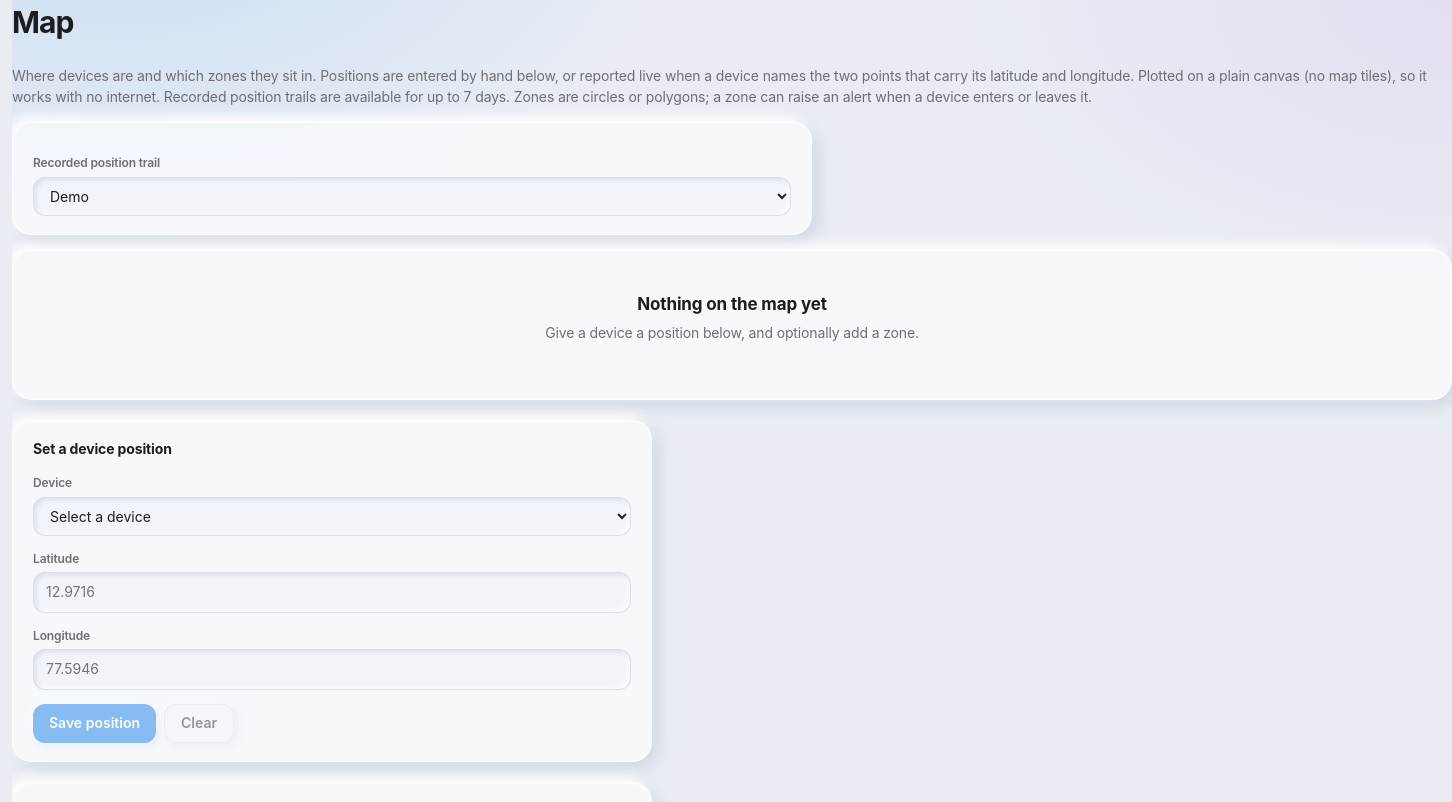
Test: CSV export uses loaded displayed rows and disables on empty/loading/failure
The width and height of the screenshot is (1452, 802).
Later steps or results of the test are not shown.
Select "Demo" in the dropdown with id "mt-device" at (412, 196), box [33,177,791,216]
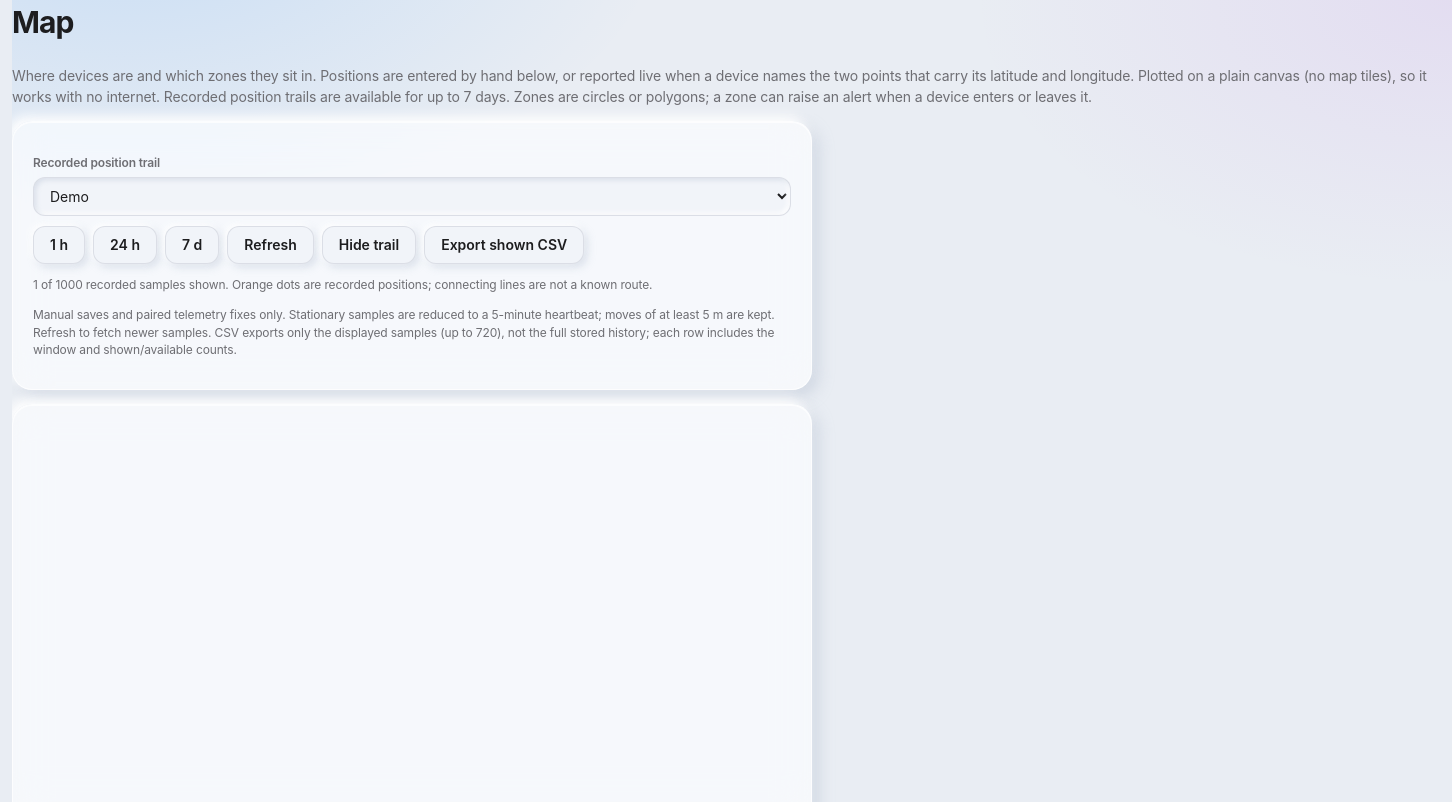
Now the button "Export shown CSV" is enabled
Click the button "Export shown CSV".
click(504, 245)  # box [424,226,584,264]
Click the button "Refresh".
click(271, 245)  # box [227,226,314,264]
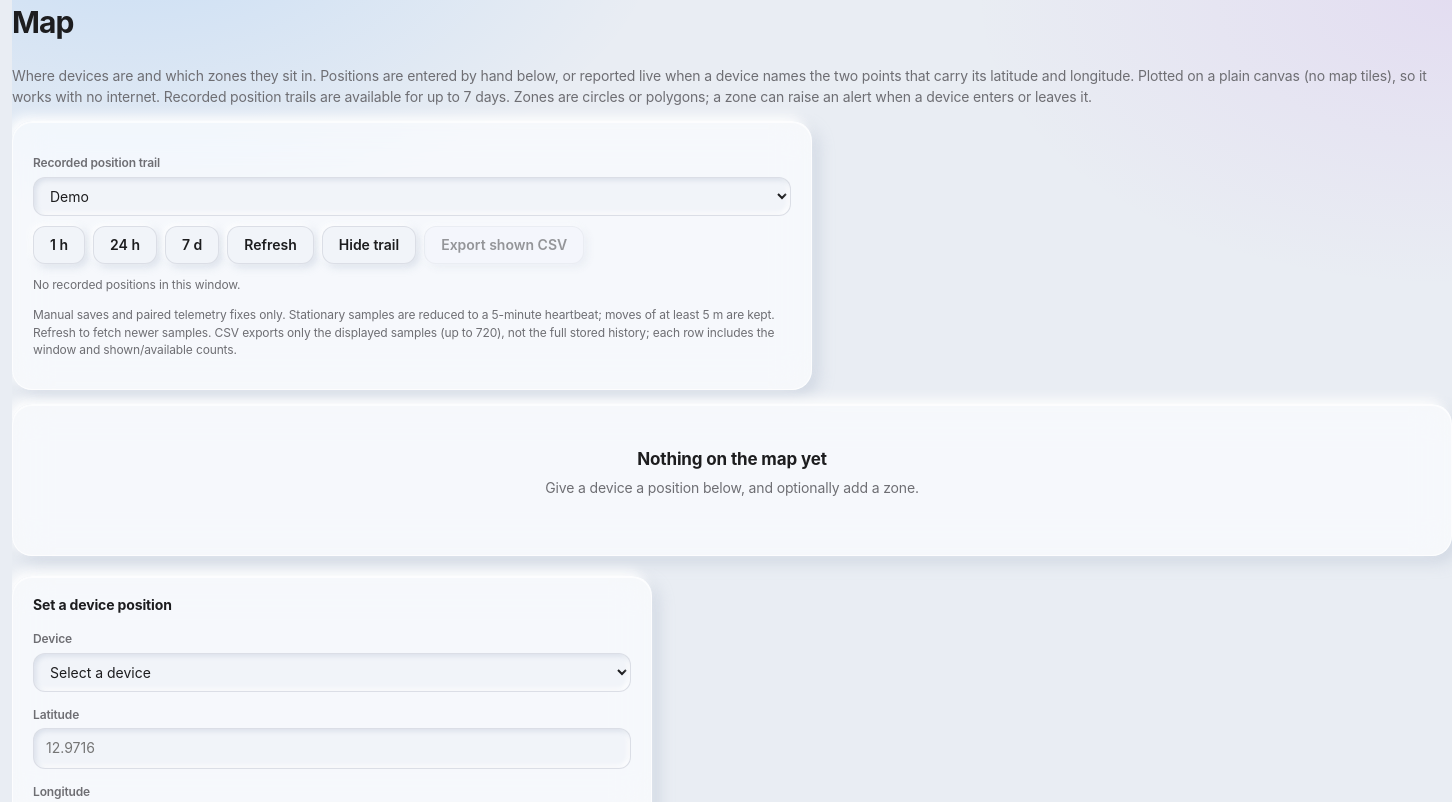
Now the button "Export shown CSV" is disabled, box [424,226,584,264]
